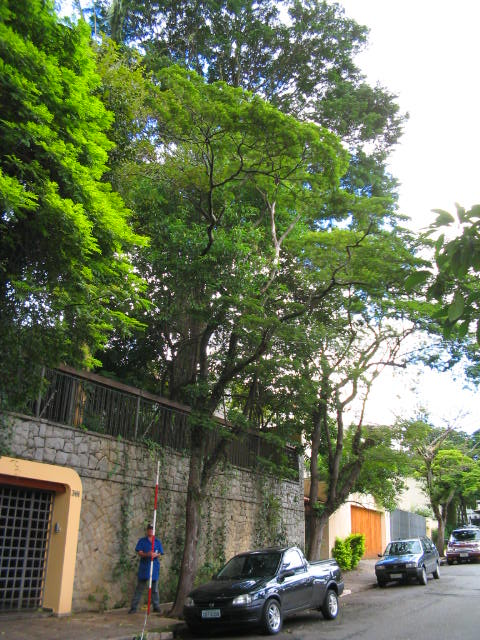crown: (129, 65, 403, 342)
stem: (163, 501, 204, 618), (295, 519, 328, 584)
stick: (140, 458, 162, 616)
tree: (128, 64, 404, 619), (282, 231, 411, 583)
